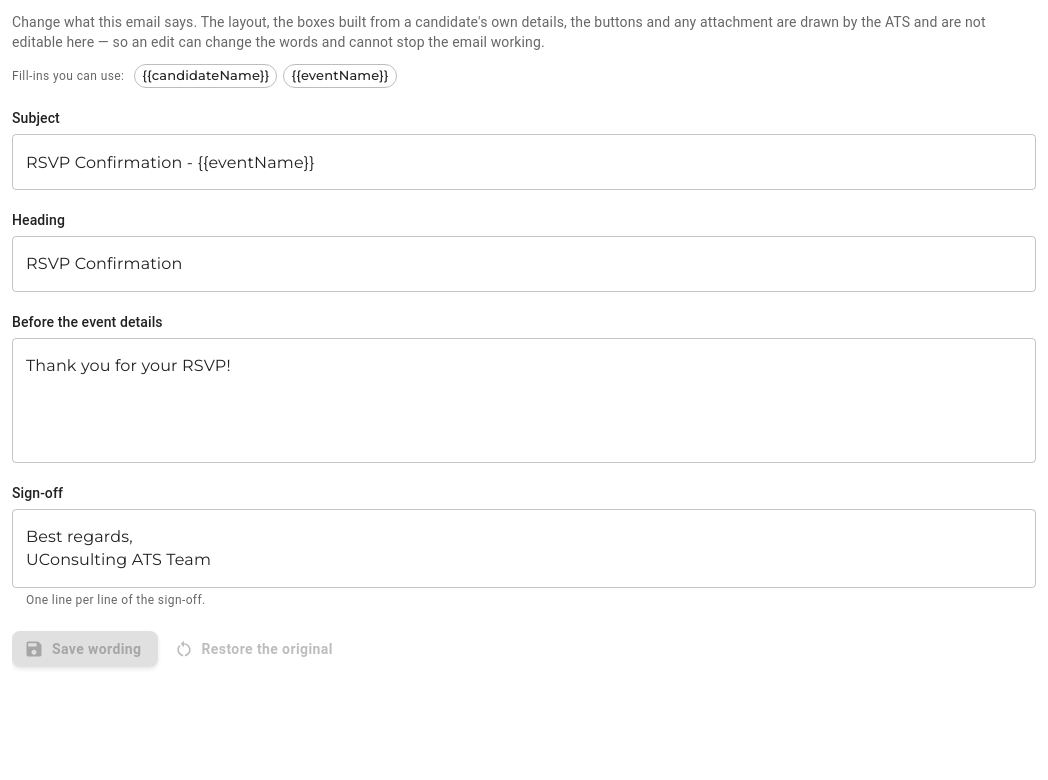
Test: EmailTemplateEditor › shows why a save was refused and leaves the text in the box
This screenshot has width=1048, height=780.
Clear the field named "Heading". click: [524, 264]
box: [12,236,1036,292]
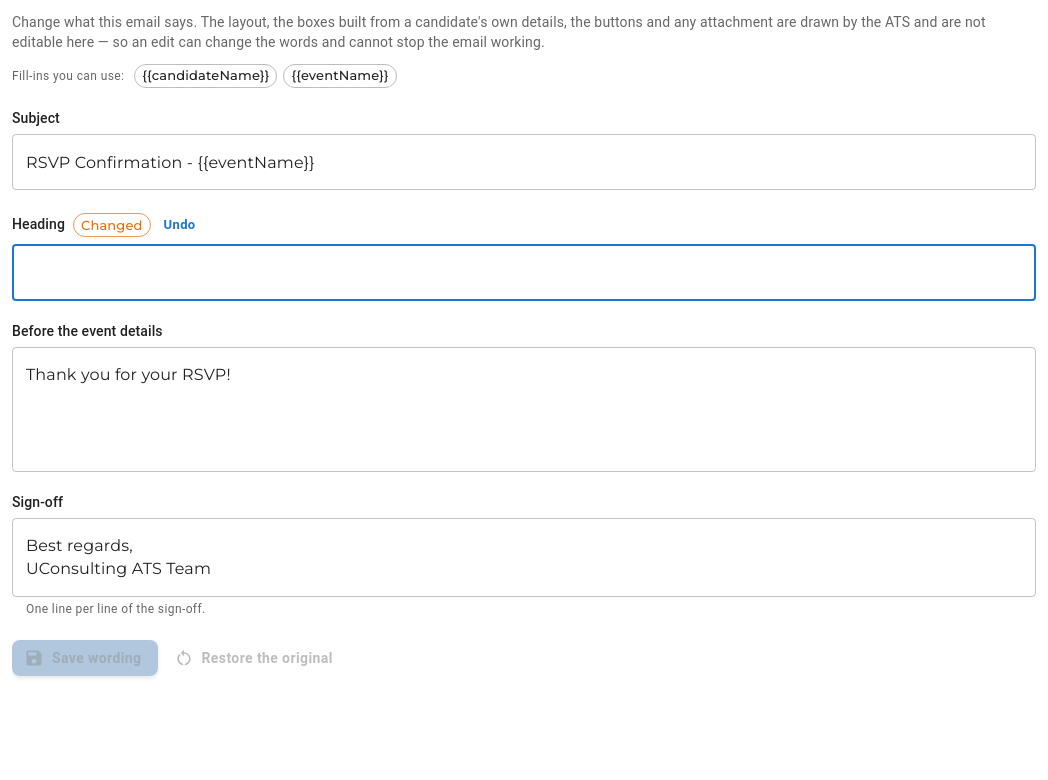
Type "Hi there" into the field named "Heading". click: [524, 273]
box: [12,245,1036,301]
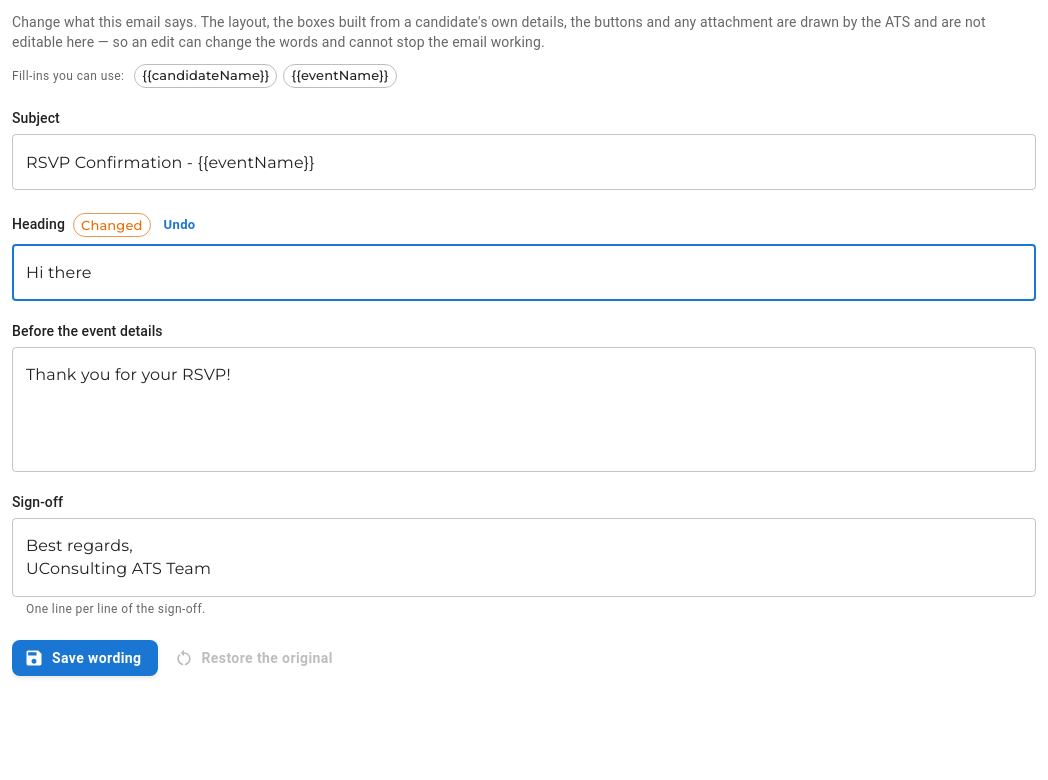
Click the button "Save wording". click: [85, 658]
box: [12,640,158,676]
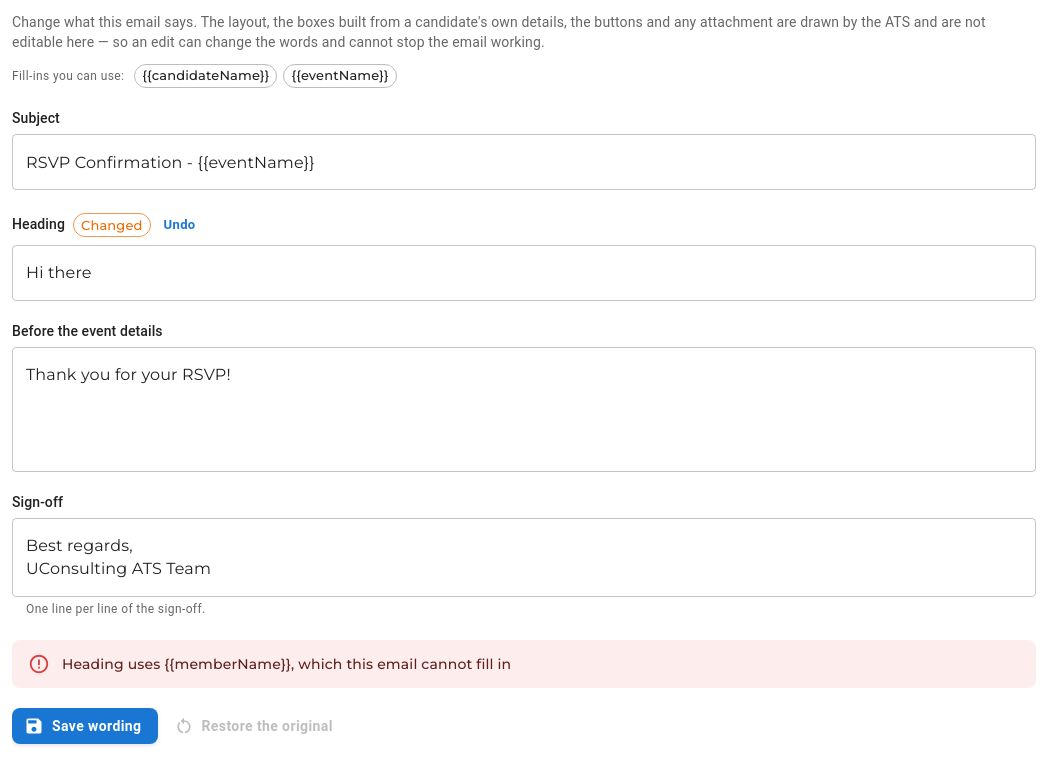
Expected: the text "Heading uses {{memberName}}, which this email cannot fill in" is shown, [62,655,511,673]
